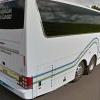Bus: (2, 2, 99, 97)
